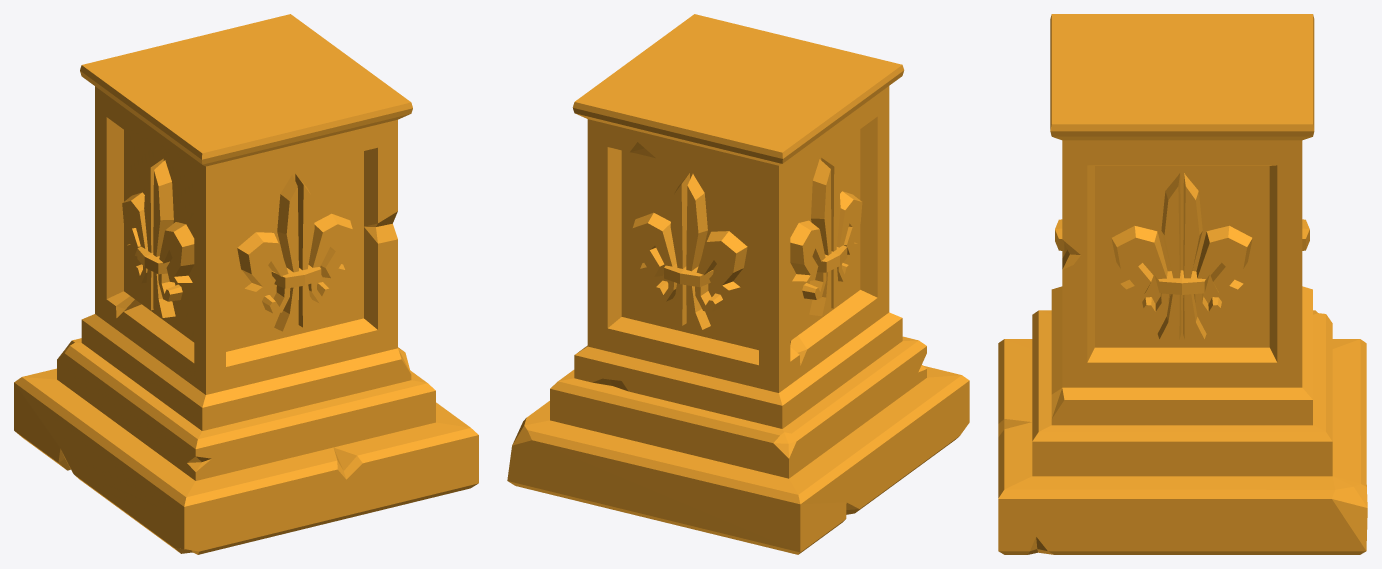
Rendered from SM_Pedestal_Grand_C_Fantasy.fbx.
The picture shows the model from 3 angles, left to right: view 1: azimuth 30°, elevation 25°; view 2: azimuth 150°, elevation 25°; view 3: azimuth 270°, elevation 25°; orthographic projection. The views are drawn at different scales.
Visible parts, largest first — view 1: SM_Pedestal_Grand_Fantasy_C; view 2: SM_Pedestal_Grand_Fantasy_C; view 3: SM_Pedestal_Grand_Fantasy_C.
Boxes of the visible parts, <box> form: SM_Pedestal_Grand_Fantasy_C: <box>14,14,478,554</box>; SM_Pedestal_Grand_Fantasy_C: <box>507,14,969,554</box>; SM_Pedestal_Grand_Fantasy_C: <box>998,14,1367,554</box>.
Size of the model in its own units: 1.02 by 1.25 by 1.02.
